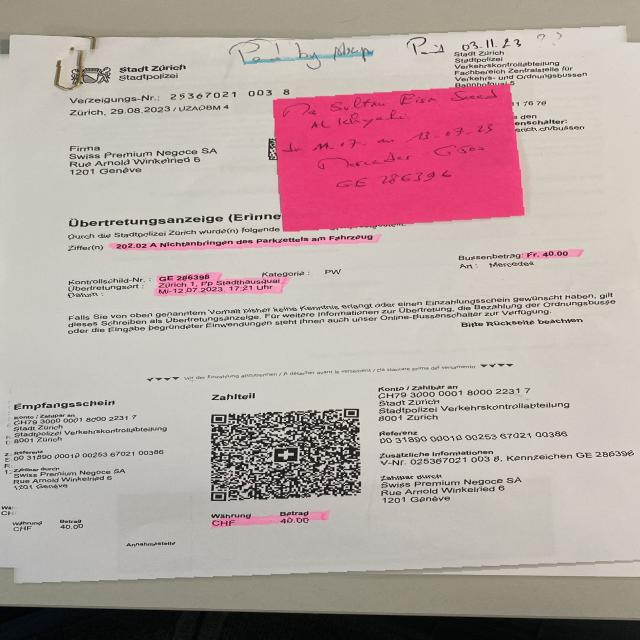paper-document-: (0, 23, 640, 583)
